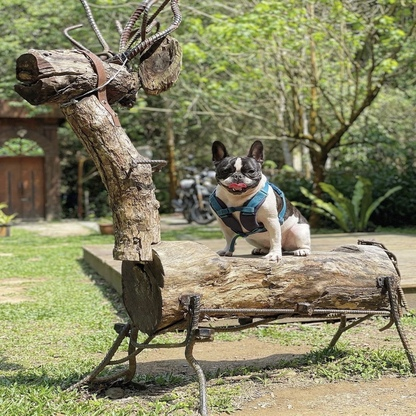bulldog: (199, 137, 313, 262)
